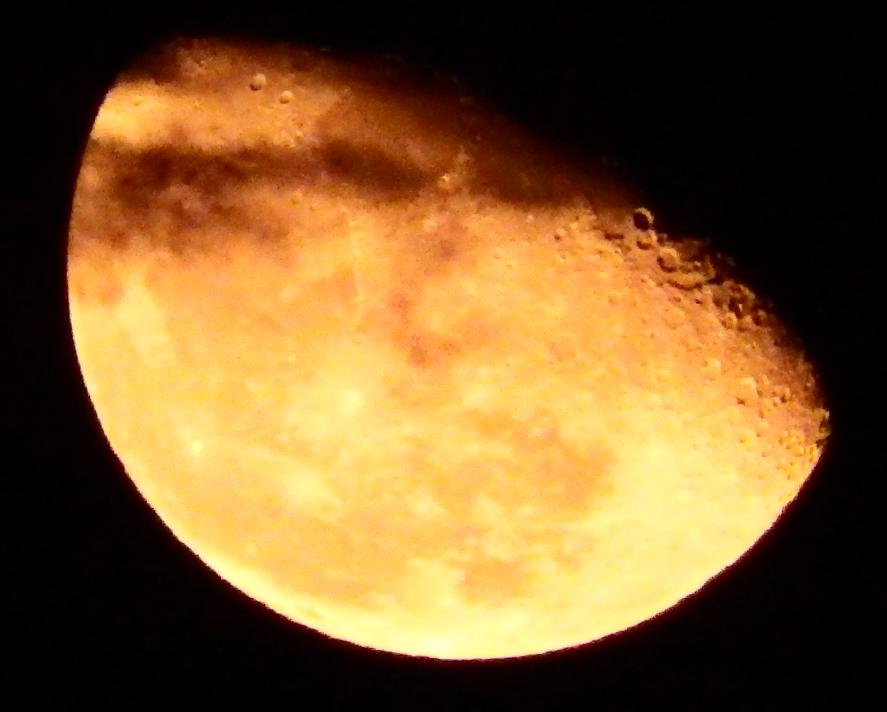crater: (615, 199, 662, 234), (230, 58, 270, 98), (274, 81, 302, 117), (121, 88, 152, 115)
